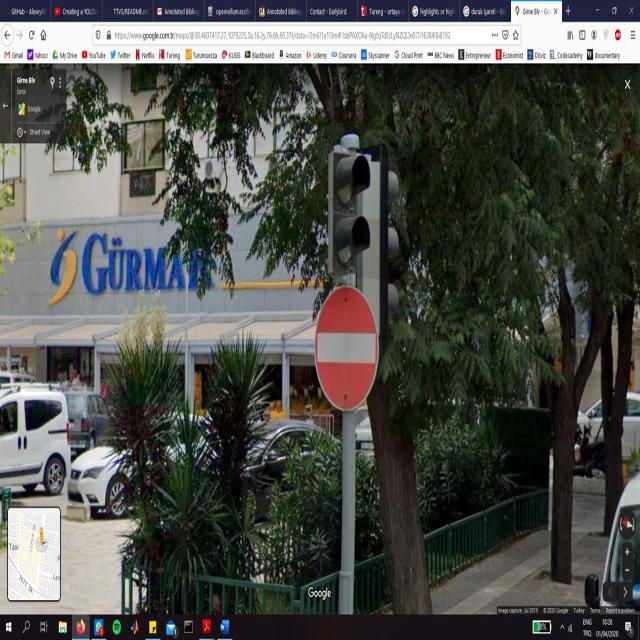girisyok: (312, 289, 379, 409)
